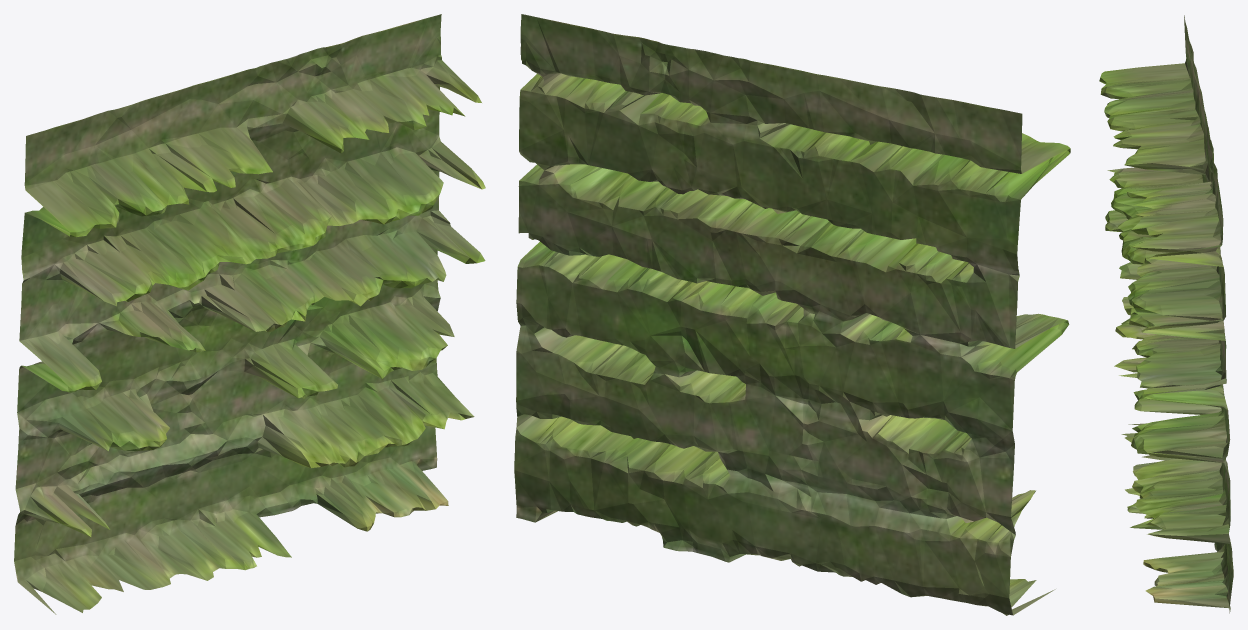
File: map_140_70.obj
3 renders of one model, left to right at view 1: azimuth 30°, elevation 25°; view 2: azimuth 150°, elevation 25°; view 3: azimuth 270°, elevation 25°, orthographic. The views are drawn at different scales.
Parts seen in each view (by area): view 1: grp1; view 2: grp1; view 3: grp1.
Boxes of the visible parts, x1,y1,x2,y2 form: grp1: [14, 14, 485, 614]; grp1: [514, 14, 1070, 615]; grp1: [1099, 15, 1233, 613].
Size of the model in its own units: 10 by 10 by 2.97.
Materials: 1 (1 with a texture image).
